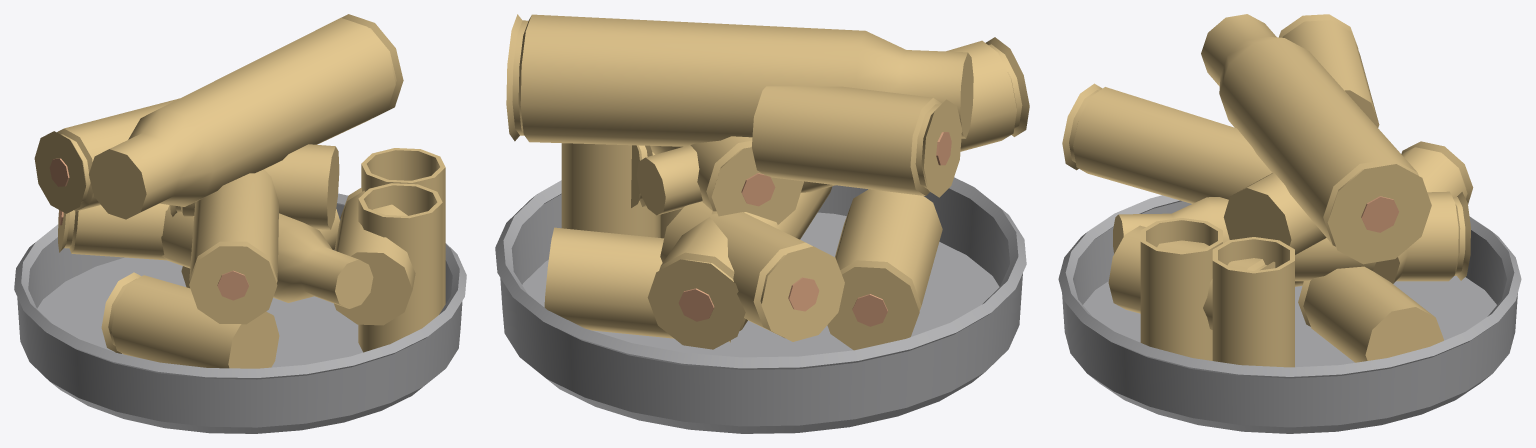
Rendered from brass.glb.
The picture shows the model from 3 angles, left to right: view 1: azimuth 30°, elevation 25°; view 2: azimuth 150°, elevation 25°; view 3: azimuth 270°, elevation 25°; orthographic projection. The views are drawn at different scales.
Visible parts, largest first — view 1: body; view 2: body; view 3: body.
Part boxes in pixels (x1,y1,x2,y2): body: (14,14,466,433); body: (495,14,1029,433); body: (1058,14,1521,433).
Size of the model in its own units: 0.0514 by 0.0325 by 0.0514.
